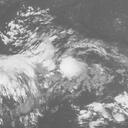cyclone: (34, 33, 108, 98)
